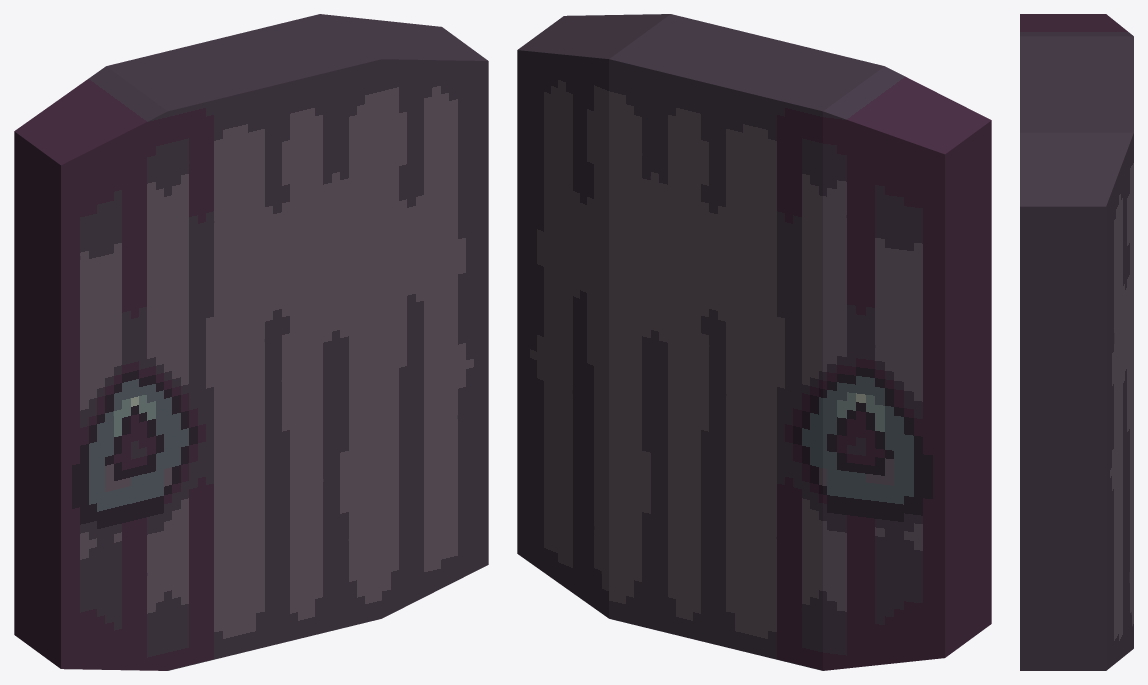
The model's file is door2.glb.
The picture shows the model from 3 angles, left to right: view 1: azimuth 30°, elevation 25°; view 2: azimuth 150°, elevation 25°; view 3: azimuth 270°, elevation 25°; orthographic projection. The views are drawn at different scales.
Visible parts, largest first — view 1: Cube; view 2: Cube; view 3: Cube.
Part boxes in pixels (bbox=[...]): Cube: bbox=[14, 14, 488, 670]; Cube: bbox=[517, 14, 991, 670]; Cube: bbox=[1020, 14, 1133, 670].
Size of the model in its own units: 4 by 5 by 1.
Materials: 1 (1 with a texture image).
